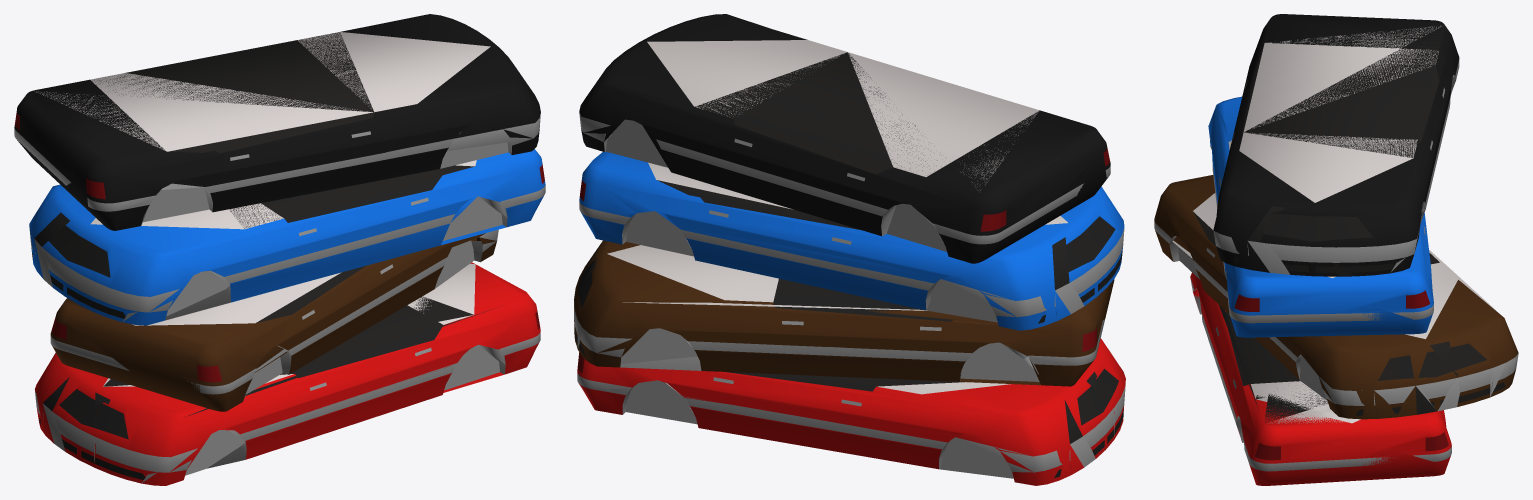
The model's file is WreckedCars.fbx.
3 views of the same model, side by side, from view 1: azimuth 30°, elevation 25°; view 2: azimuth 150°, elevation 25°; view 3: azimuth 270°, elevation 25° (orthographic). The views are drawn at different scales.
Parts seen in each view (by area): view 1: Wrecked003__Lod:1, Wrecked003__Lod:2, Wrecked__Lod:0, Wrecked003__Lod:0, Wrecked002__Lod:0, Wrecked002__Lod:1, Wrecked003__Lod:3, Wrecked__Lod:1, Wrecked001__Lod:0, Wrecked002__Lod:3, Wrecked001__Lod:1, Wrecked001__Lod:2 (+4 smaller); view 2: Wrecked003__Lod:1, Wrecked003__Lod:0, Wrecked002__Lod:0, Wrecked__Lod:0, Wrecked001__Lod:0, Wrecked001__Lod:1, Wrecked003__Lod:2, Wrecked001__Lod:3, Wrecked002__Lod:3, Wrecked__Lod:1, Wrecked__Lod:2, Wrecked002__Lod:1 (+4 smaller); view 3: Wrecked003__Lod:1, Wrecked003__Lod:3, Wrecked003__Lod:0, Wrecked001__Lod:0, Wrecked__Lod:0, Wrecked002__Lod:0, Wrecked001__Lod:1, Wrecked__Lod:1, Wrecked003__Lod:2, Wrecked001__Lod:2, Wrecked002__Lod:1, Wrecked__Lod:3 (+3 smaller).
Part boxes in pixels (left/top/right/bottom): Wrecked003__Lod:1: left=19, top=14, right=540, bottom=227; Wrecked003__Lod:2: left=34, top=15, right=533, bottom=228; Wrecked__Lod:0: left=34, top=291, right=540, bottom=485; Wrecked003__Lod:0: left=14, top=14, right=540, bottom=230; Wrecked002__Lod:0: left=29, top=149, right=545, bottom=325; Wrecked002__Lod:1: left=30, top=152, right=542, bottom=325; Wrecked003__Lod:3: left=30, top=16, right=534, bottom=221; Wrecked__Lod:1: left=35, top=262, right=537, bottom=485; Wrecked001__Lod:0: left=50, top=229, right=498, bottom=411; Wrecked002__Lod:3: left=51, top=184, right=507, bottom=320; Wrecked001__Lod:1: left=60, top=234, right=482, bottom=411; Wrecked001__Lod:2: left=60, top=235, right=497, bottom=398; Wrecked003__Lod:1: left=580, top=14, right=1106, bottom=263; Wrecked003__Lod:0: left=579, top=14, right=1110, bottom=263; Wrecked002__Lod:0: left=579, top=161, right=1124, bottom=329; Wrecked__Lod:0: left=577, top=339, right=1125, bottom=484; Wrecked001__Lod:0: left=574, top=240, right=1104, bottom=386; Wrecked001__Lod:1: left=574, top=245, right=1114, bottom=385; Wrecked003__Lod:2: left=604, top=14, right=1100, bottom=238; Wrecked001__Lod:3: left=618, top=302, right=1069, bottom=385; Wrecked002__Lod:3: left=597, top=154, right=1015, bottom=302; Wrecked__Lod:1: left=610, top=338, right=1125, bottom=485; Wrecked__Lod:2: left=609, top=367, right=1114, bottom=485; Wrecked002__Lod:1: left=592, top=152, right=1124, bottom=330; Wrecked003__Lod:1: left=1216, top=14, right=1455, bottom=276; Wrecked003__Lod:3: left=1214, top=19, right=1455, bottom=224; Wrecked003__Lod:0: left=1213, top=14, right=1459, bottom=276; Wrecked001__Lod:0: left=1154, top=183, right=1518, bottom=419; Wrecked__Lod:0: left=1190, top=272, right=1451, bottom=485; Wrecked002__Lod:0: left=1208, top=96, right=1433, bottom=337; Wrecked001__Lod:1: left=1160, top=175, right=1513, bottom=419; Wrecked__Lod:1: left=1194, top=277, right=1444, bottom=485; Wrecked003__Lod:2: left=1221, top=18, right=1455, bottom=224; Wrecked001__Lod:2: left=1165, top=176, right=1505, bottom=418; Wrecked002__Lod:1: left=1210, top=100, right=1431, bottom=337; Wrecked__Lod:3: left=1196, top=278, right=1443, bottom=475.
Bounding box in the file's own units: 465 × 288 × 341.
